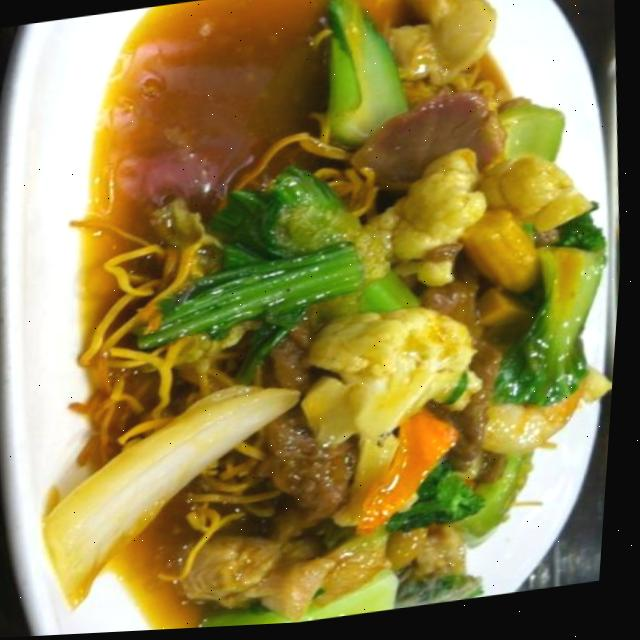面条主食: (1, 0, 627, 639)
